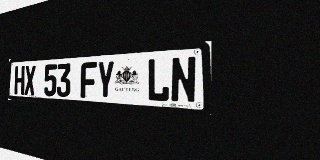3: (57, 63, 71, 97)
5: (44, 64, 57, 96)
F: (80, 62, 97, 99)
H: (14, 66, 25, 95)
L: (147, 57, 170, 102)
N: (170, 56, 197, 104)
X: (24, 65, 36, 95)
Y: (97, 61, 115, 99)
